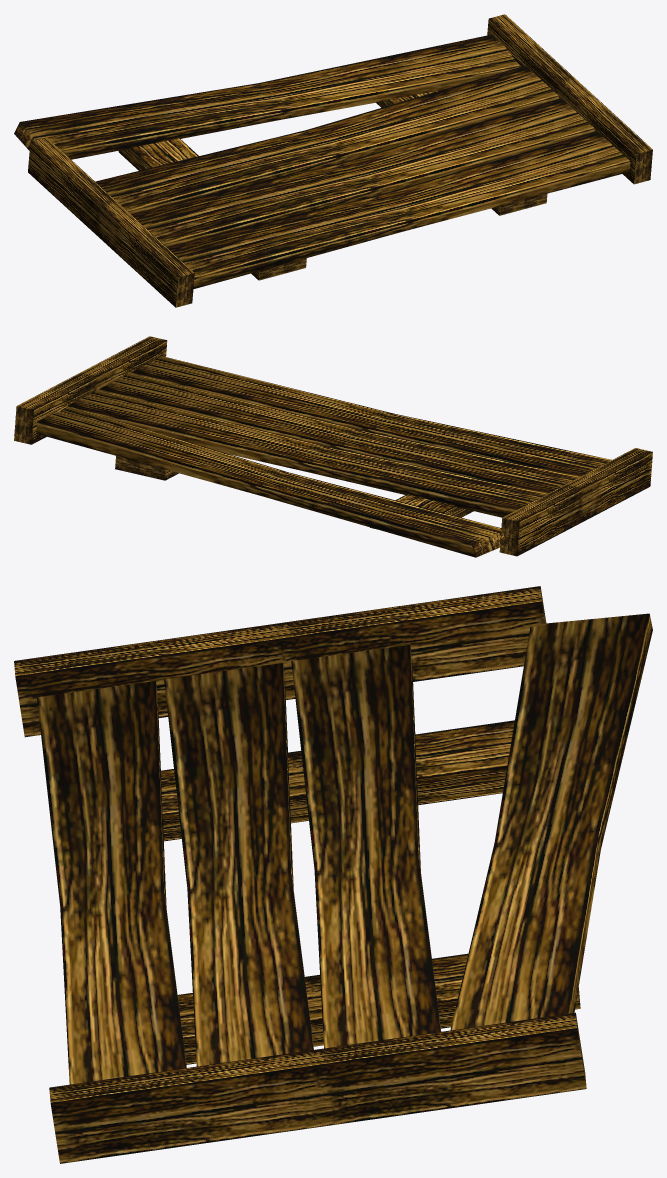
Rendered from RM_WPOOL_PLATFORM03.fbx.
3 renders of one model, top to bottom at view 1: azimuth 30°, elevation 25°; view 2: azimuth 150°, elevation 25°; view 3: azimuth 270°, elevation 25°, orthographic. The views are drawn at different scales.
Parts seen in each view (by area): view 1: RM_WPOOL_PLATFORM03; view 2: RM_WPOOL_PLATFORM03; view 3: RM_WPOOL_PLATFORM03.
Boxes of the visible parts, bbox=[...] form: RM_WPOOL_PLATFORM03: bbox=[14, 14, 652, 307]; RM_WPOOL_PLATFORM03: bbox=[14, 336, 652, 557]; RM_WPOOL_PLATFORM03: bbox=[14, 586, 652, 1163].
Size of the model in its own units: 36408 by 5124 by 21630.
1 material, 1 textured.
